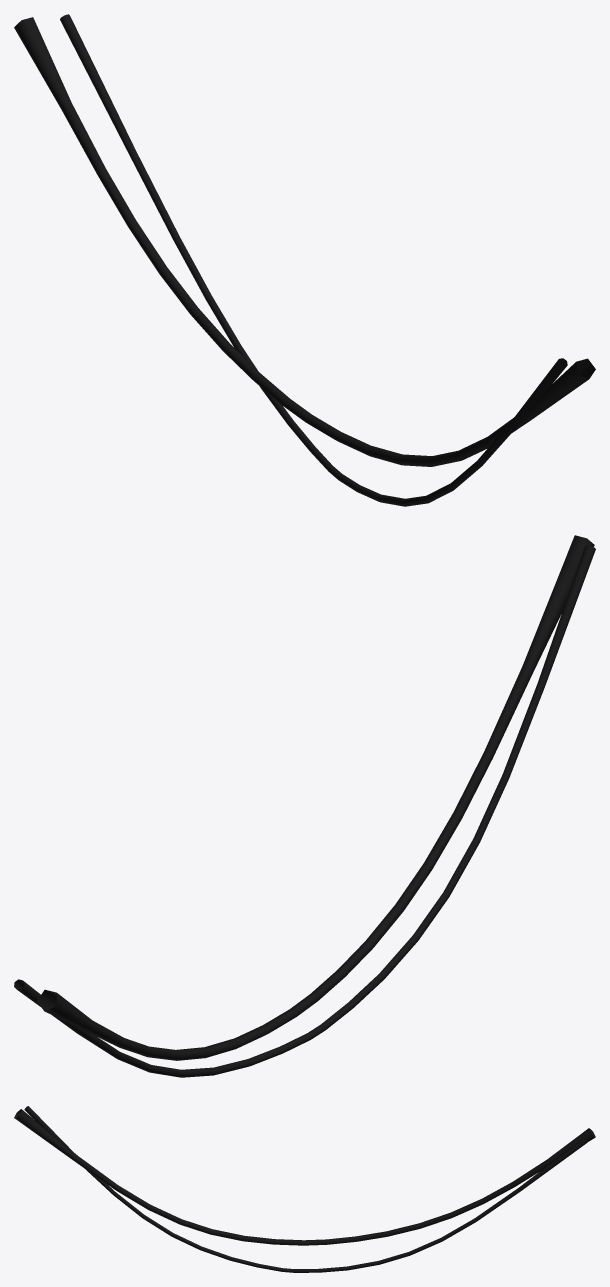
Rendered from wires.FBX.
3 views of the same model, one above another, from view 1: azimuth 30°, elevation 25°; view 2: azimuth 150°, elevation 25°; view 3: azimuth 270°, elevation 25° (orthographic). The views are drawn at different scales.
Visible parts, largest first — view 1: wires; view 2: wires; view 3: wires.
Part boxes in pixels (x1,y1,x2,y2): wires: (14,14,595,506); wires: (14,535,595,1077); wires: (14,1106,595,1272).
Size of the model in its own units: 12.12 by 209 by 63.72.
